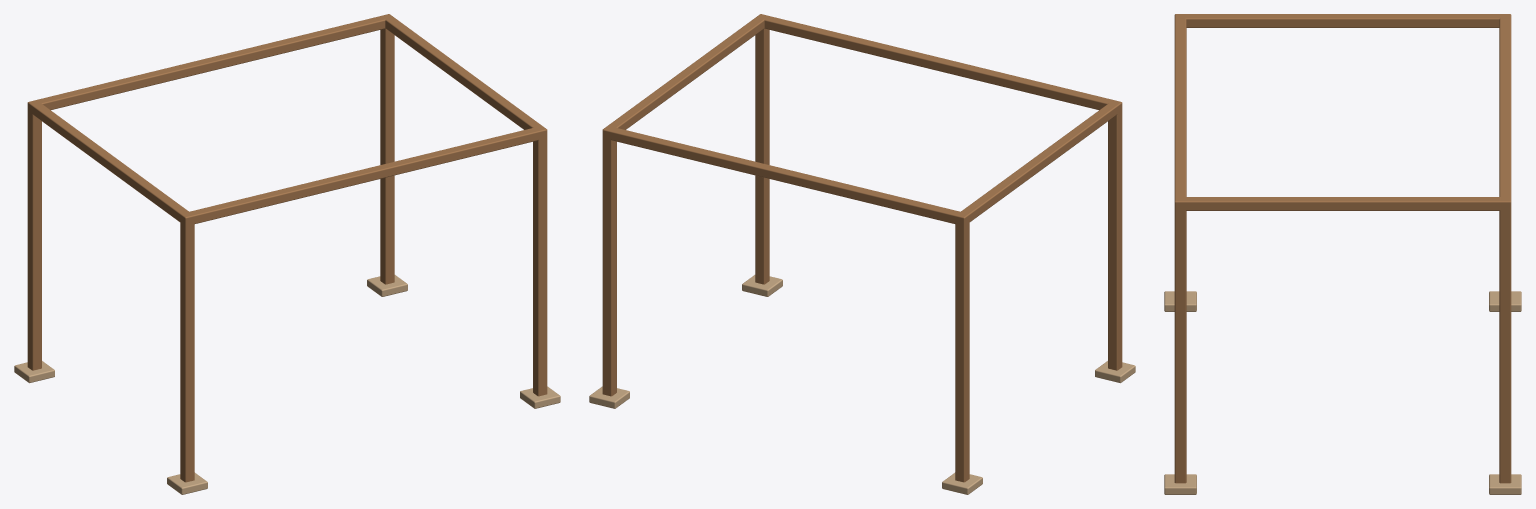
3 renders of one model, left to right at view 1: azimuth 30°, elevation 25°; view 2: azimuth 150°, elevation 25°; view 3: azimuth 270°, elevation 25°, orthographic. The views are drawn at different scales.
Parts seen in each view (by area): view 1: sunshade-frame; view 2: sunshade-frame; view 3: sunshade-frame.
Part boxes in pixels (box(x1,y1,x2,y2)): sunshade-frame: box(14, 14, 560, 494); sunshade-frame: box(589, 14, 1135, 494); sunshade-frame: box(1164, 14, 1521, 494).
Bounding box in the file's own units: 4.3 × 2.95 × 3.3.
